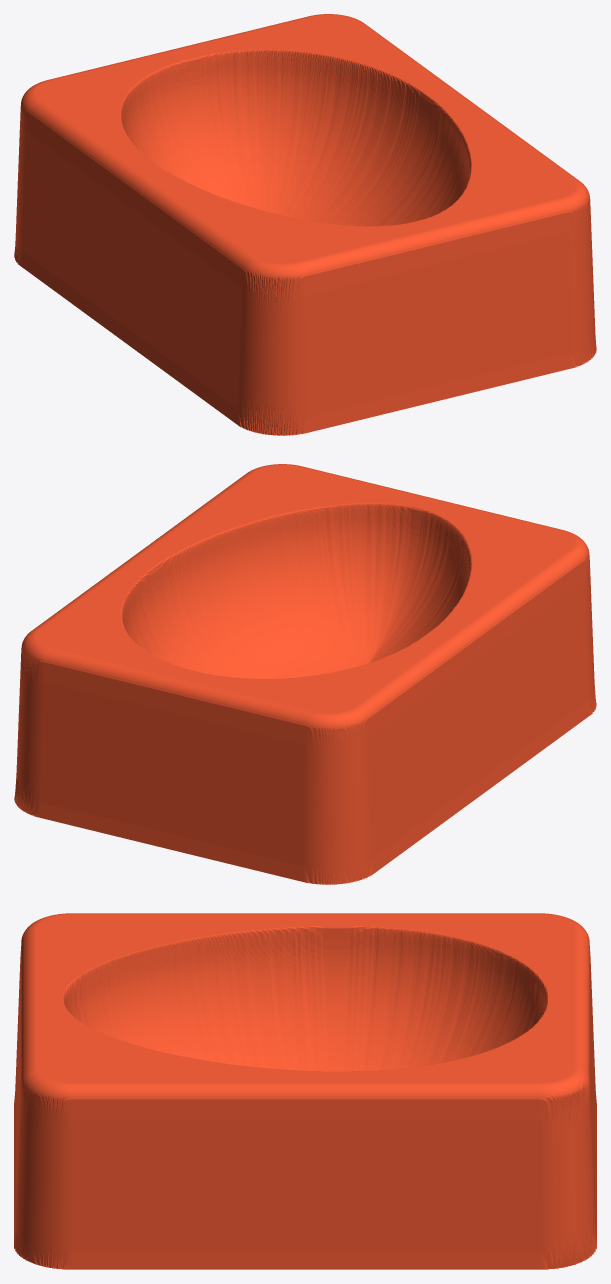
File: mold.glb
3 views of the same model, one above another, from view 1: azimuth 30°, elevation 25°; view 2: azimuth 150°, elevation 25°; view 3: azimuth 270°, elevation 25° (orthographic). The views are drawn at different scales.
Visible parts, largest first — view 1: geometry_0; view 2: geometry_0; view 3: geometry_0.
Part boxes in pixels (x1,y1,x2,y2): geometry_0: (14, 14, 596, 435); geometry_0: (14, 464, 596, 884); geometry_0: (14, 913, 596, 1269).
Bounding box in the file's own units: 0.0702 × 0.031 × 0.0924.
